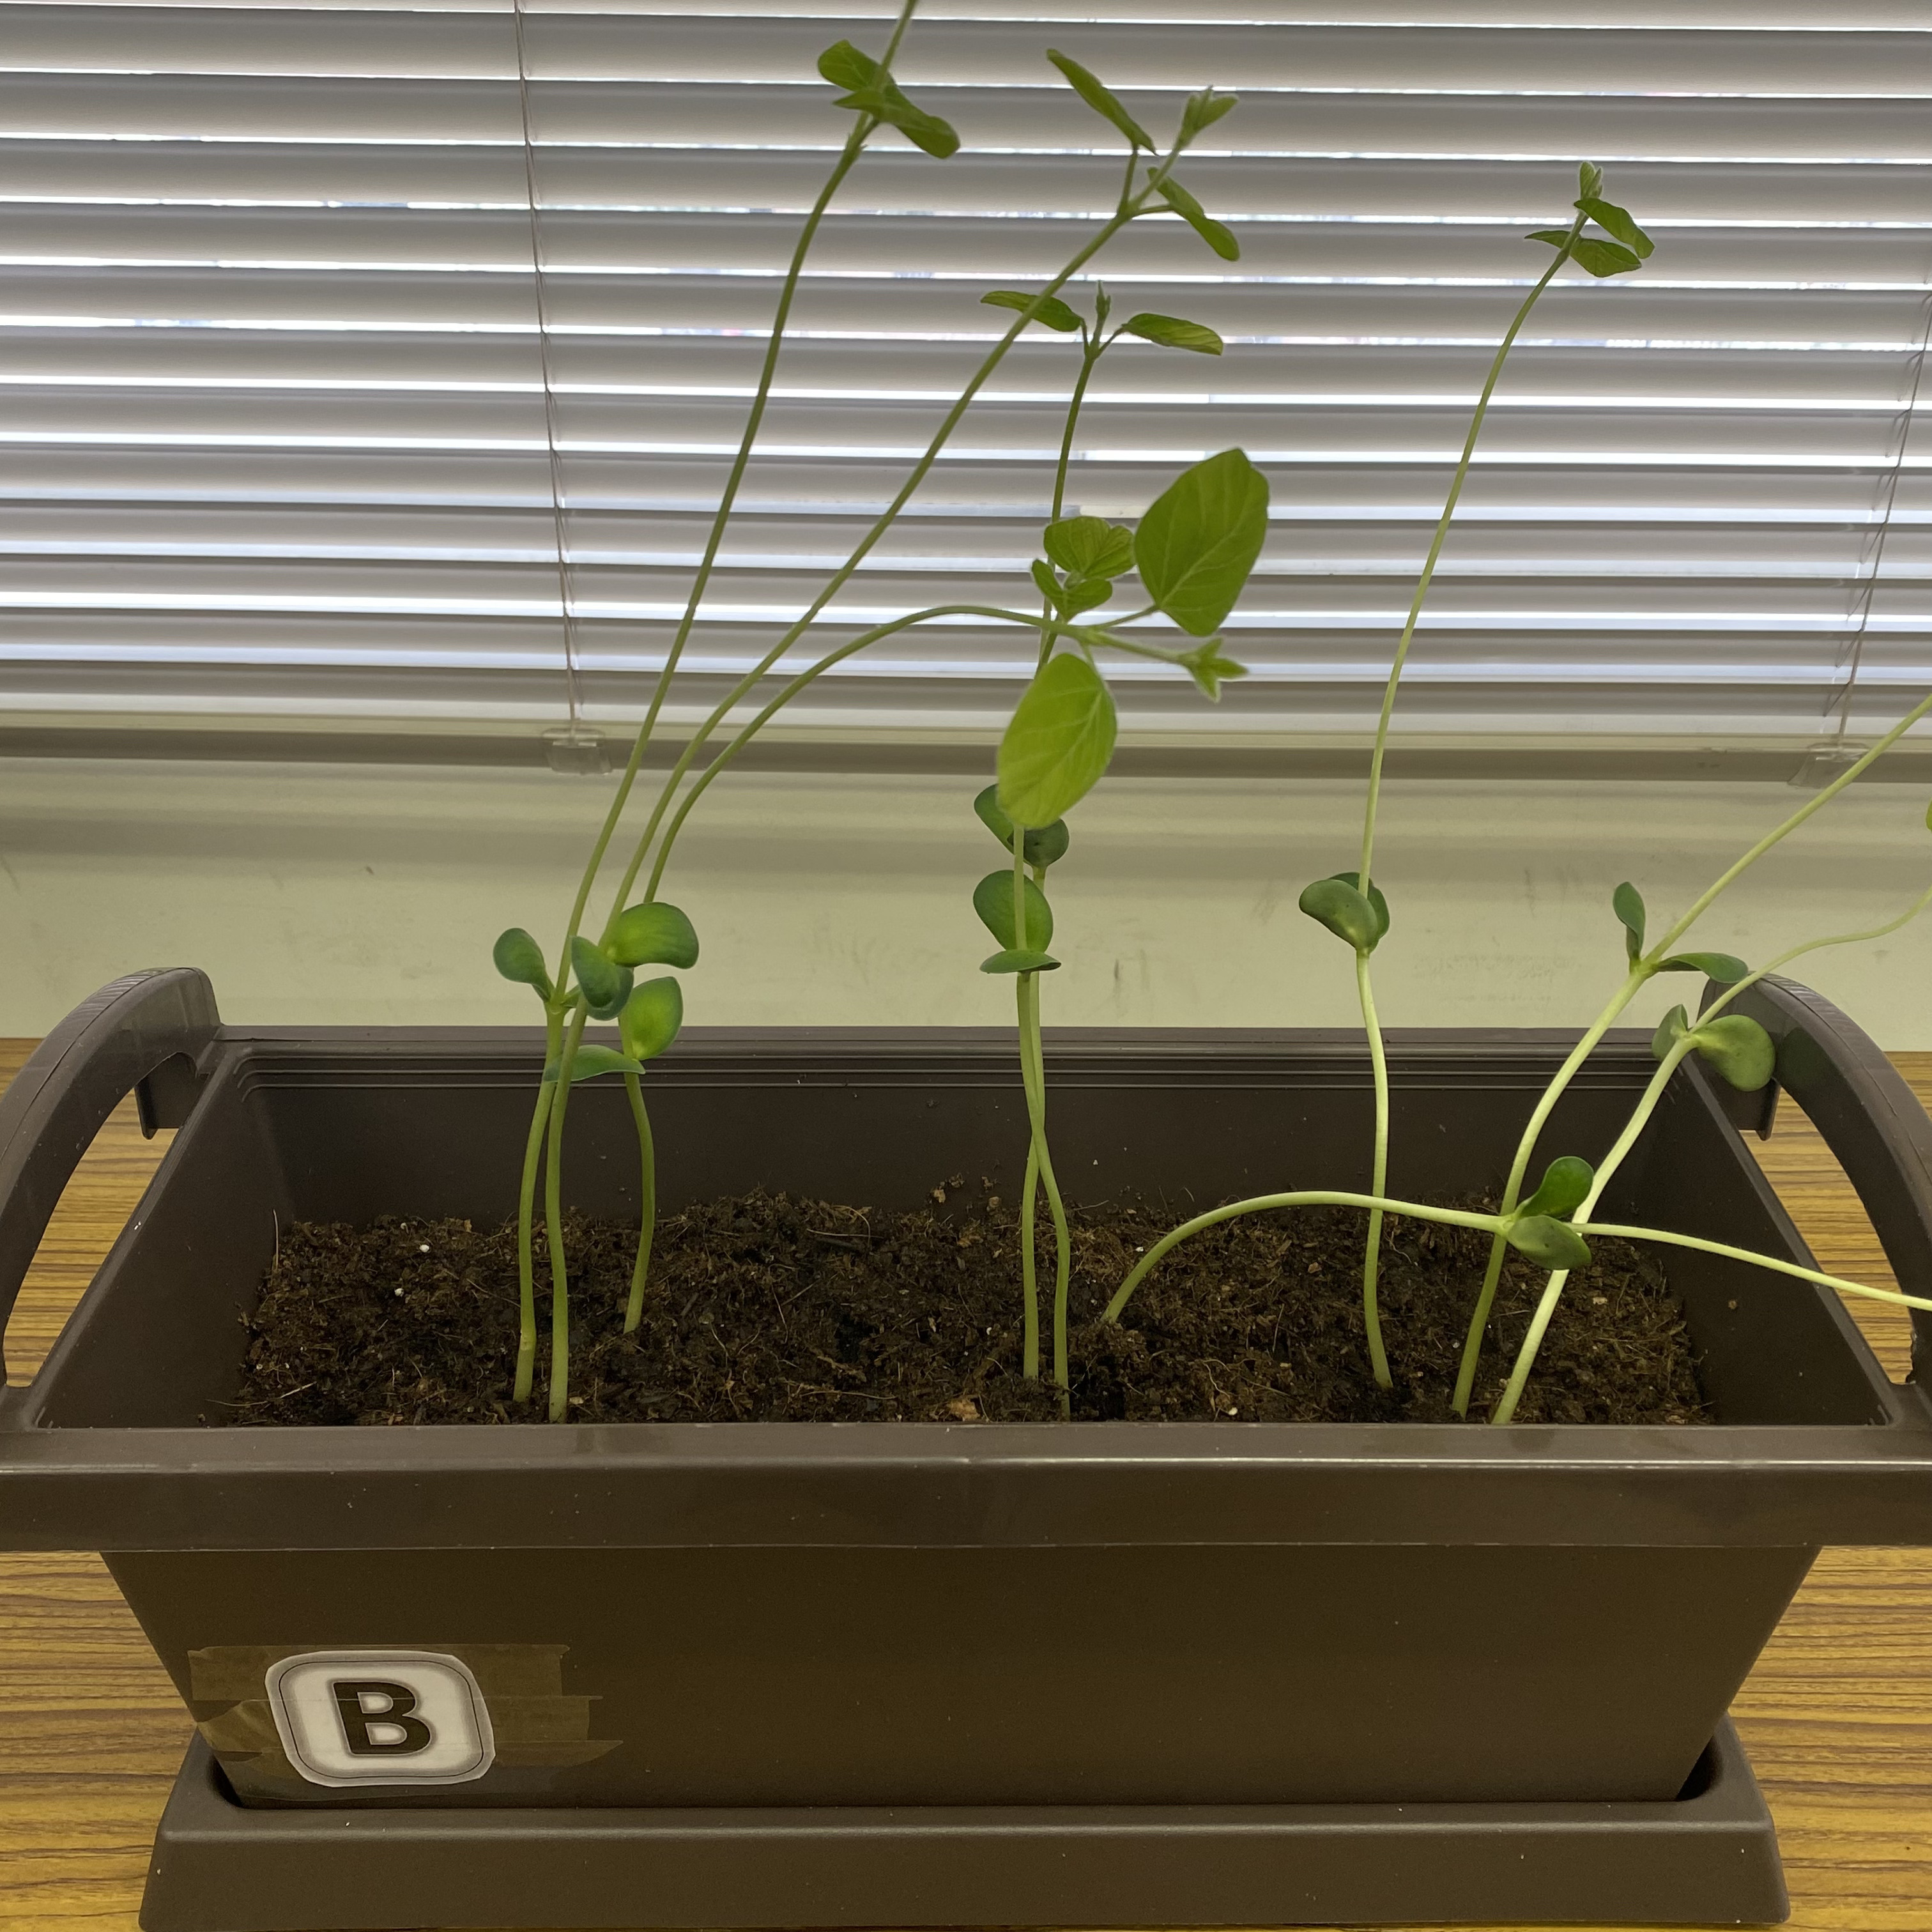healthy: (1134, 441, 1277, 648), (993, 653, 1116, 837)
